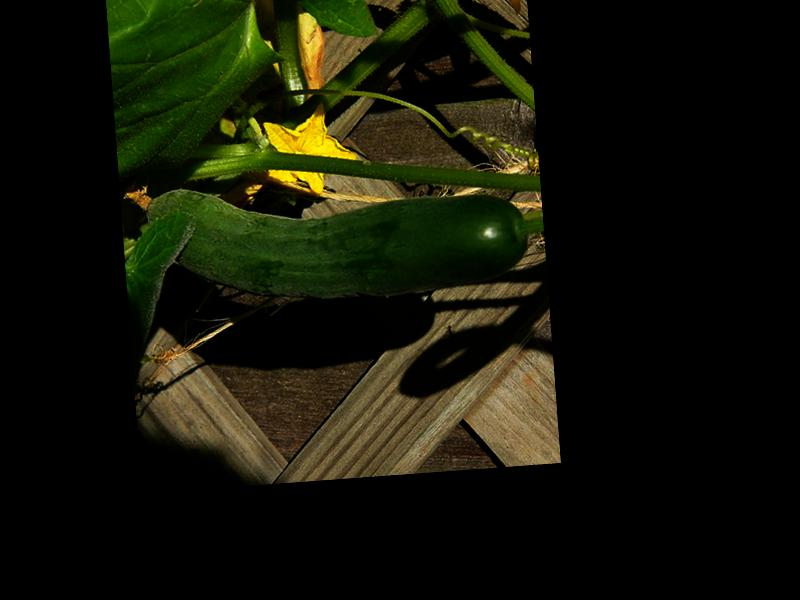Cucumber: (124, 164, 527, 316)
